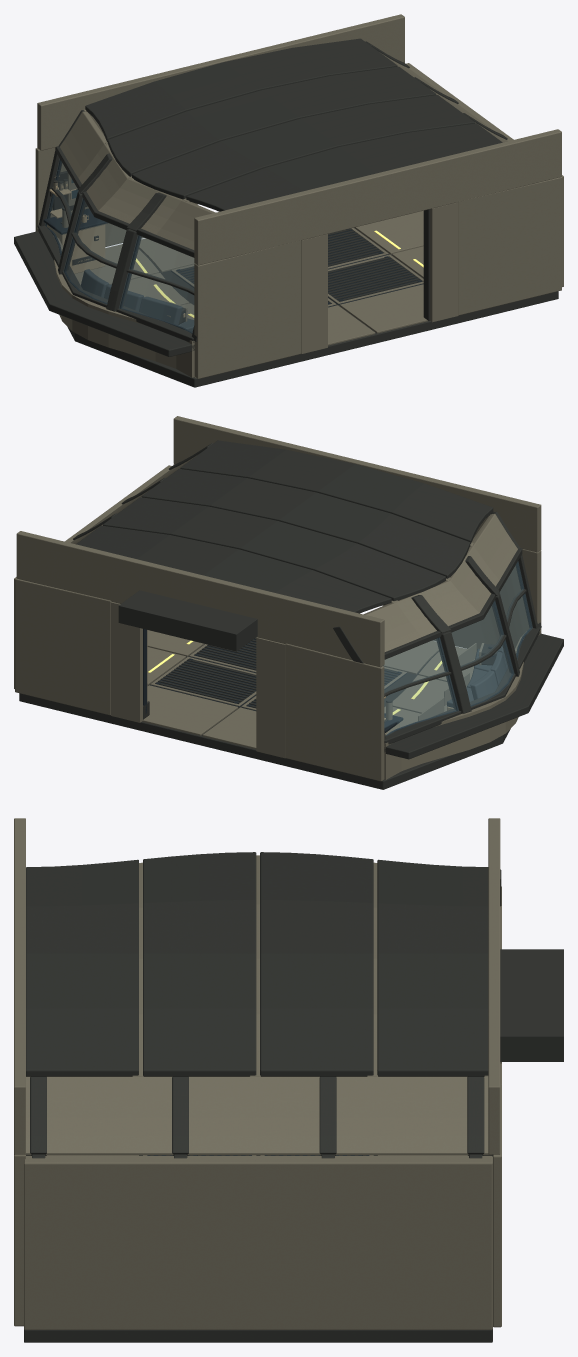
The model's file is cruz-del-sur-arrival-room.glb.
The picture shows the model from 3 angles, top to bottom: view 1: azimuth 30°, elevation 25°; view 2: azimuth 150°, elevation 25°; view 3: azimuth 270°, elevation 25°; orthographic projection. The views are drawn at different scales.
Visible parts, largest first — view 1: ARRIVAL_RUNTIME_ARRIVAL_V4_Warm_grey_panels_runtime, ARRIVAL_RUNTIME_ARRIVAL_V4_Graphite_frame_runtime, ARRIVAL_RUNTIME_ARRIVAL_V4_Glazing_runtime, ARRIVAL_RUNTIME_ARRIVAL_V4_Gaskets_runtime, ARRIVAL_RUNTIME_ARRIVAL_V4_Bench_cushions_runtime, ARRIVAL_RUNTIME_ARRIVAL_V4_Ivory_cabinets_runtime; view 2: ARRIVAL_RUNTIME_ARRIVAL_V4_Warm_grey_panels_runtime, ARRIVAL_RUNTIME_ARRIVAL_V4_Graphite_frame_runtime, ARRIVAL_RUNTIME_ARRIVAL_V4_Glazing_runtime, ARRIVAL_RUNTIME_ARRIVAL_V4_Gaskets_runtime, ARRIVAL_RUNTIME_ARRIVAL_V4_Bench_cushions_runtime; view 3: ARRIVAL_RUNTIME_ARRIVAL_V4_Warm_grey_panels_runtime, ARRIVAL_RUNTIME_ARRIVAL_V4_Graphite_frame_runtime.
Part boxes in pixels (x1,y1,x2,y2): ARRIVAL_RUNTIME_ARRIVAL_V4_Warm_grey_panels_runtime: (35, 14, 563, 378); ARRIVAL_RUNTIME_ARRIVAL_V4_Graphite_frame_runtime: (14, 38, 558, 387); ARRIVAL_RUNTIME_ARRIVAL_V4_Glazing_runtime: (45, 159, 193, 332); ARRIVAL_RUNTIME_ARRIVAL_V4_Gaskets_runtime: (43, 159, 423, 333); ARRIVAL_RUNTIME_ARRIVAL_V4_Bench_cushions_runtime: (81, 269, 194, 331); ARRIVAL_RUNTIME_ARRIVAL_V4_Ivory_cabinets_runtime: (47, 175, 185, 317); ARRIVAL_RUNTIME_ARRIVAL_V4_Warm_grey_panels_runtime: (14, 416, 541, 781); ARRIVAL_RUNTIME_ARRIVAL_V4_Graphite_frame_runtime: (19, 440, 563, 789); ARRIVAL_RUNTIME_ARRIVAL_V4_Glazing_runtime: (383, 561, 532, 735); ARRIVAL_RUNTIME_ARRIVAL_V4_Gaskets_runtime: (143, 561, 532, 735); ARRIVAL_RUNTIME_ARRIVAL_V4_Bench_cushions_runtime: (447, 636, 508, 707); ARRIVAL_RUNTIME_ARRIVAL_V4_Warm_grey_panels_runtime: (14, 818, 501, 1329); ARRIVAL_RUNTIME_ARRIVAL_V4_Graphite_frame_runtime: (24, 852, 563, 1342).
Bounding box in the file's own units: 10.08 × 3.74 × 7.26.
15 materials, 4 textured.
